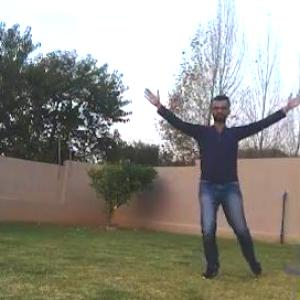takeoff: (143, 88, 299, 281)
